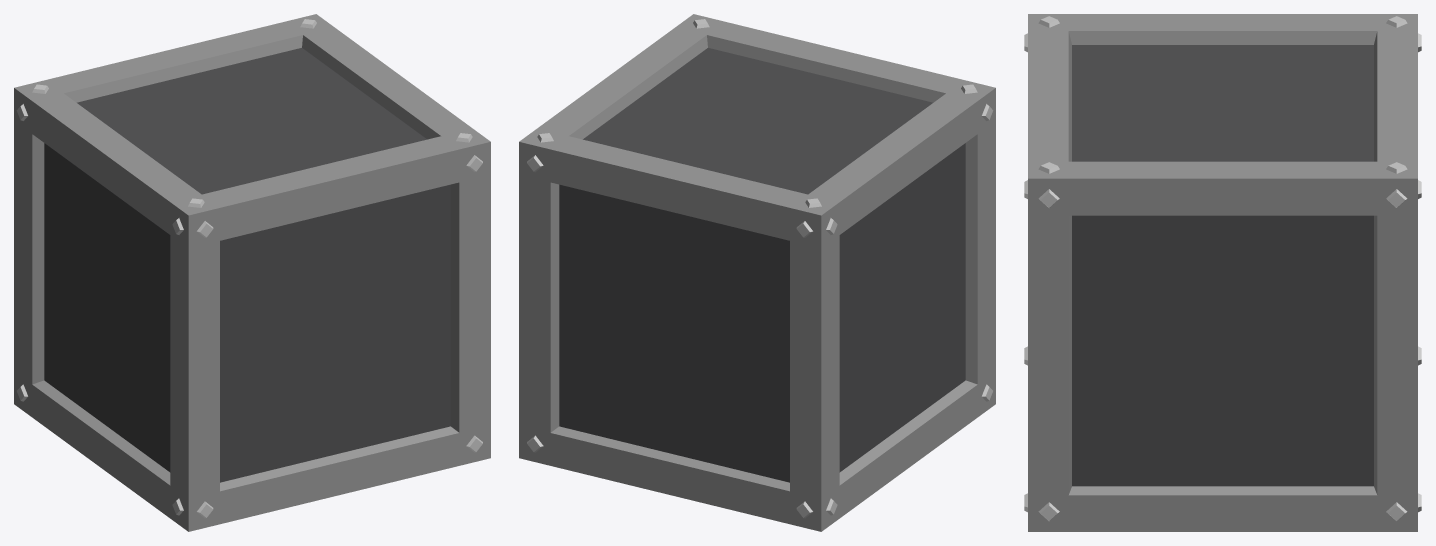
Rendered from SM_Crate_2.fbx.
The picture shows the model from 3 angles, left to right: view 1: azimuth 30°, elevation 25°; view 2: azimuth 150°, elevation 25°; view 3: azimuth 270°, elevation 25°; orthographic projection. The views are drawn at different scales.
Parts seen in each view (by area): view 1: SM_Crate_2_LOD0; view 2: SM_Crate_2_LOD0; view 3: SM_Crate_2_LOD0.
Boxes of the visible parts, bbox=[...] form: SM_Crate_2_LOD0: bbox=[14, 14, 490, 531]; SM_Crate_2_LOD0: bbox=[519, 14, 995, 531]; SM_Crate_2_LOD0: bbox=[1024, 14, 1421, 531].
Bounding box in the file's own units: 58.74 × 58.74 × 58.74.
1 material, 1 textured.
